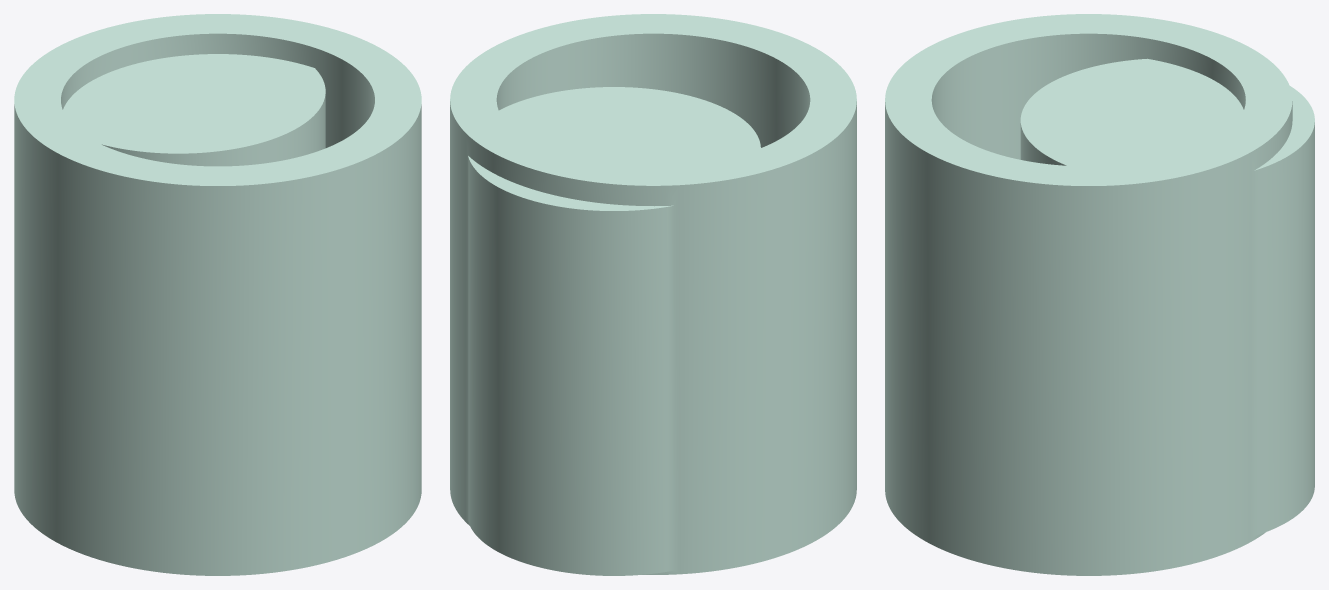
3 views of the same model, side by side, from view 1: azimuth 30°, elevation 25°; view 2: azimuth 150°, elevation 25°; view 3: azimuth 270°, elevation 25° (orthographic).
Visible parts, largest first — view 1: Renderer Node; view 2: Renderer Node; view 3: Renderer Node.
Part boxes in pixels (left/top/right/bottom): Renderer Node: left=14, top=14, right=421, bottom=575; Renderer Node: left=450, top=14, right=856, bottom=575; Renderer Node: left=885, top=14, right=1314, bottom=575.
Size of the model in its own units: 0.7104 by 0.75 by 0.7496.
